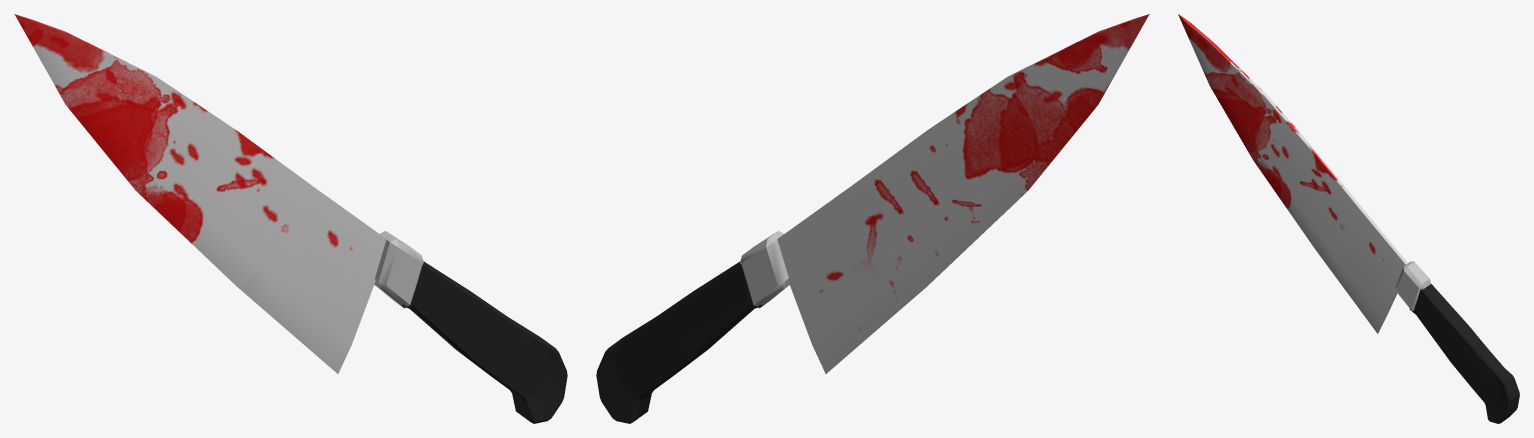
File: bloody-knife01.fbx
3 renders of one model, left to right at view 1: azimuth 30°, elevation 25°; view 2: azimuth 150°, elevation 25°; view 3: azimuth 330°, elevation 25°, orthographic. The views are drawn at different scales.
Parts seen in each view (by area): view 1: pCube1, pCube3, pCube2; view 2: pCube1, pCube3, pCube2; view 3: pCube1, pCube3, pCube2.
Part boxes in pixels (x1,y1,x2,y2): pCube1: (14, 14, 386, 373); pCube3: (401, 261, 567, 423); pCube2: (374, 231, 423, 308); pCube1: (777, 14, 1149, 373); pCube3: (596, 261, 762, 423); pCube2: (740, 231, 789, 308); pCube1: (1178, 14, 1407, 333); pCube3: (1409, 284, 1519, 423); pCube2: (1395, 261, 1430, 310).
Size of the model in its own units: 12.05 by 11.18 by 0.6833.
3 materials, 1 textured.
